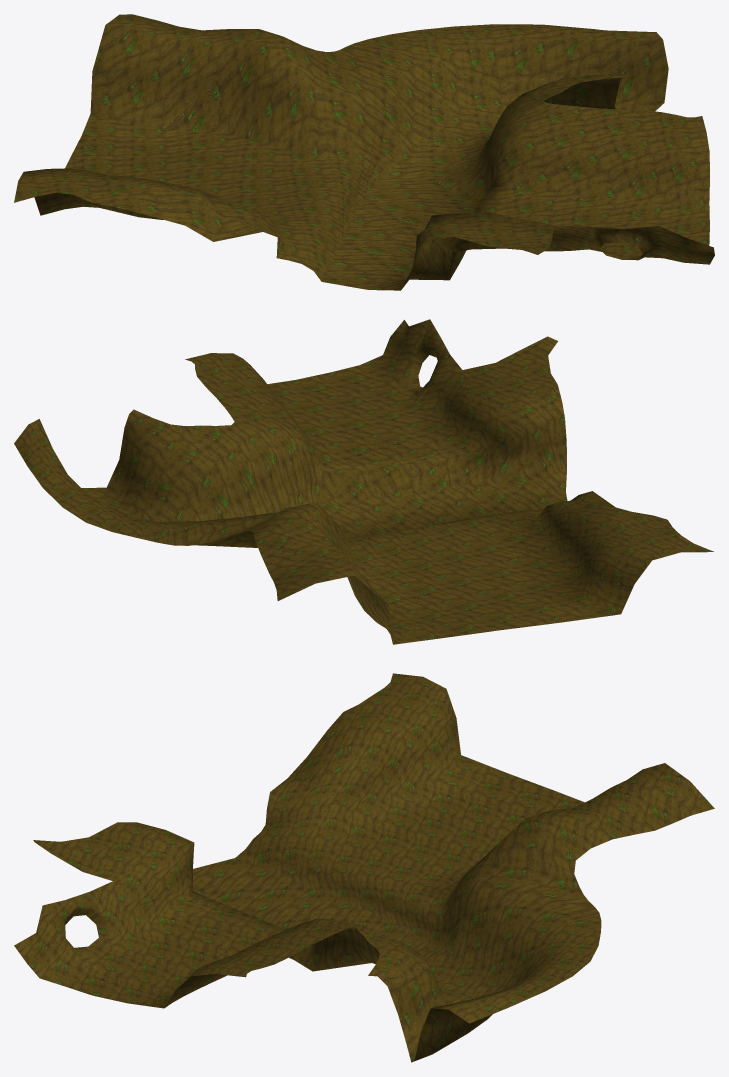
Rendered from MIRKWOOD_AREA2-3.fbx.
3 renders of one model, top to bottom at view 1: azimuth 30°, elevation 25°; view 2: azimuth 150°, elevation 25°; view 3: azimuth 270°, elevation 25°, orthographic.
Visible parts, largest first — view 1: MIRKWOOD_AREA2-3; view 2: MIRKWOOD_AREA2-3; view 3: MIRKWOOD_AREA2-3.
Boxes of the visible parts, x1,y1,x2,y2 form: MIRKWOOD_AREA2-3: [14, 14, 714, 290]; MIRKWOOD_AREA2-3: [14, 319, 713, 644]; MIRKWOOD_AREA2-3: [14, 673, 714, 1062].
Size of the model in its own units: 696446 by 107011 by 635261.
Materials: 1 (1 with a texture image).
